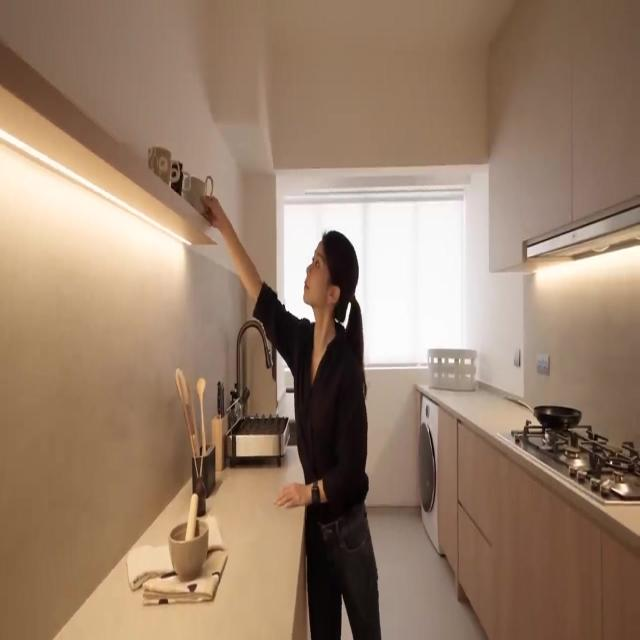obstacle: (53, 442, 309, 638), (487, 0, 639, 274)
person: (200, 193, 382, 639)
